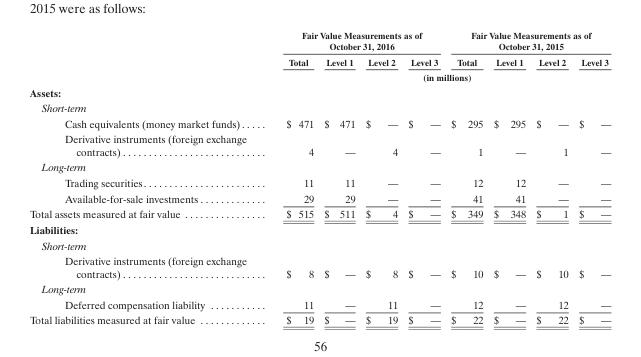table: (29, 28, 610, 326)
table column: (29, 28, 265, 326), (265, 28, 318, 326), (359, 28, 402, 326), (402, 28, 445, 326), (487, 28, 530, 326), (445, 28, 487, 326), (530, 28, 572, 326), (318, 28, 359, 326), (572, 28, 610, 326)
table column header: (29, 28, 610, 83)
table projected row header: (29, 83, 610, 99), (29, 158, 610, 174), (29, 236, 610, 252), (29, 99, 610, 114), (29, 221, 610, 236), (29, 280, 610, 295)
table row: (29, 130, 610, 158), (29, 252, 610, 280), (29, 28, 610, 53), (29, 83, 610, 99), (29, 114, 610, 130), (29, 158, 610, 174), (29, 189, 610, 205), (29, 205, 610, 221), (29, 236, 610, 252), (29, 295, 610, 311), (29, 53, 610, 68), (29, 68, 610, 83), (29, 99, 610, 114), (29, 174, 610, 189), (29, 221, 610, 236), (29, 280, 610, 295), (29, 311, 610, 326)
table spanning cell: (265, 68, 610, 83), (265, 28, 445, 53), (445, 28, 610, 53)
